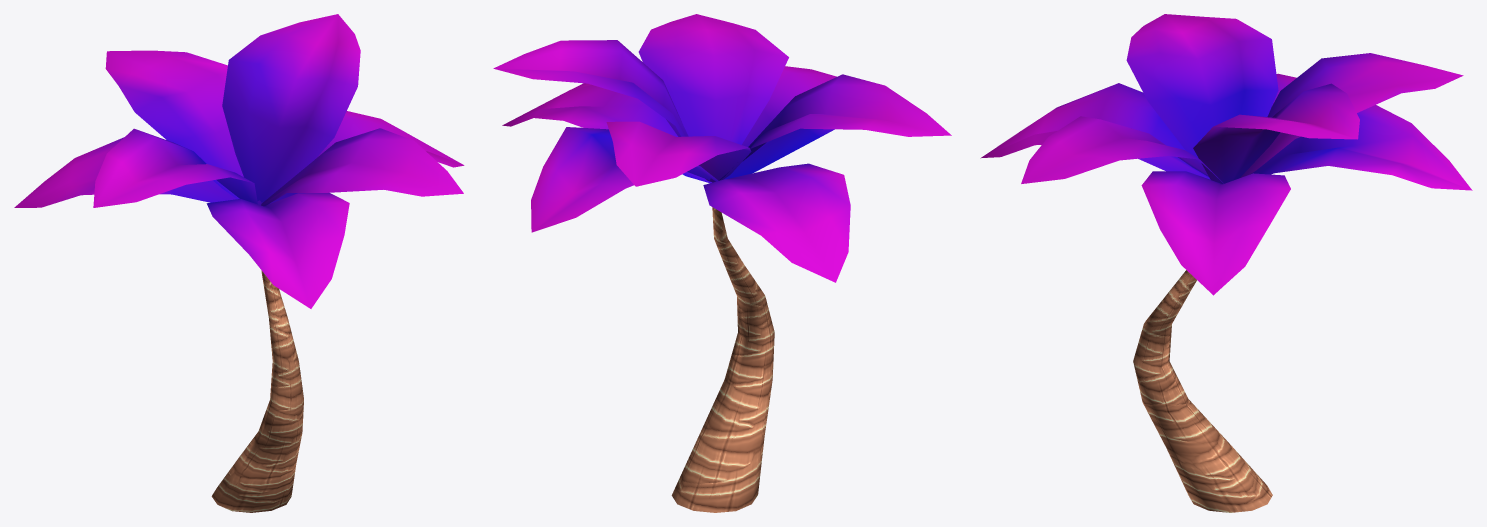
File: Tree_Palm_02.fbx
3 renders of one model, left to right at view 1: azimuth 30°, elevation 25°; view 2: azimuth 150°, elevation 25°; view 3: azimuth 270°, elevation 25°, orthographic. The views are drawn at different scales.
Parts seen in each view (by area): view 1: Palm_02; view 2: Palm_02; view 3: Palm_02.
Boxes of the visible parts, x1,y1,x2,y2 form: Palm_02: [14, 14, 464, 512]; Palm_02: [493, 14, 951, 512]; Palm_02: [980, 14, 1472, 512].
Bounding box in the file's own units: 376 × 371 × 380.
